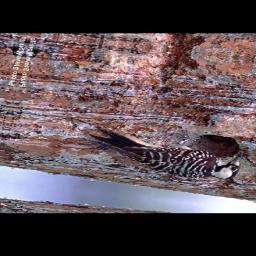Woodpecker: (82, 127, 247, 183)
